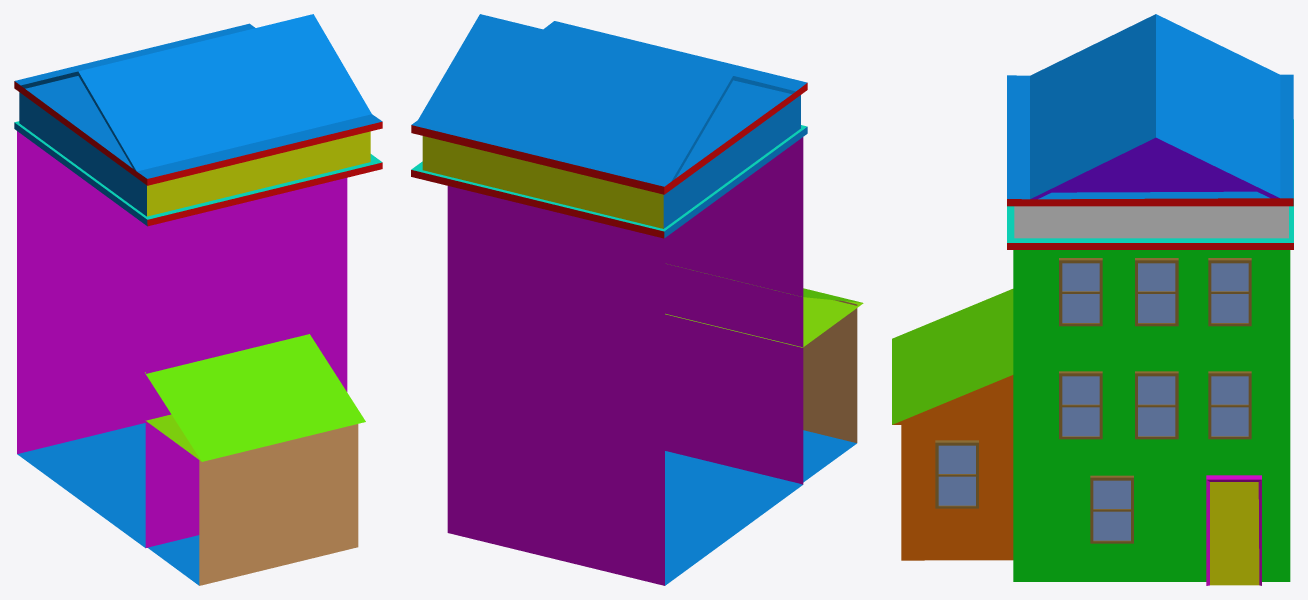
The model's file is hotel_szeryf_bez_tylu.fbx.
3 views of the same model, side by side, from view 1: azimuth 30°, elevation 25°; view 2: azimuth 150°, elevation 25°; view 3: azimuth 270°, elevation 25° (orthographic). The views are drawn at different scales.
Visible parts, largest first — view 1: Plane.012; view 2: Plane.012; view 3: Plane.012, Plane.001, Plane.008.
Boxes of the visible parts, left/top/right/bottom form: Plane.012: left=14, top=14, right=382, bottom=585; Plane.012: left=411, top=14, right=863, bottom=585; Plane.012: left=892, top=14, right=1293, bottom=560; Plane.001: left=1013, top=250, right=1290, bottom=585; Plane.008: left=935, top=258, right=1251, bottom=543.
Bounding box in the file's own units: 2.29 × 4 × 3.15.
